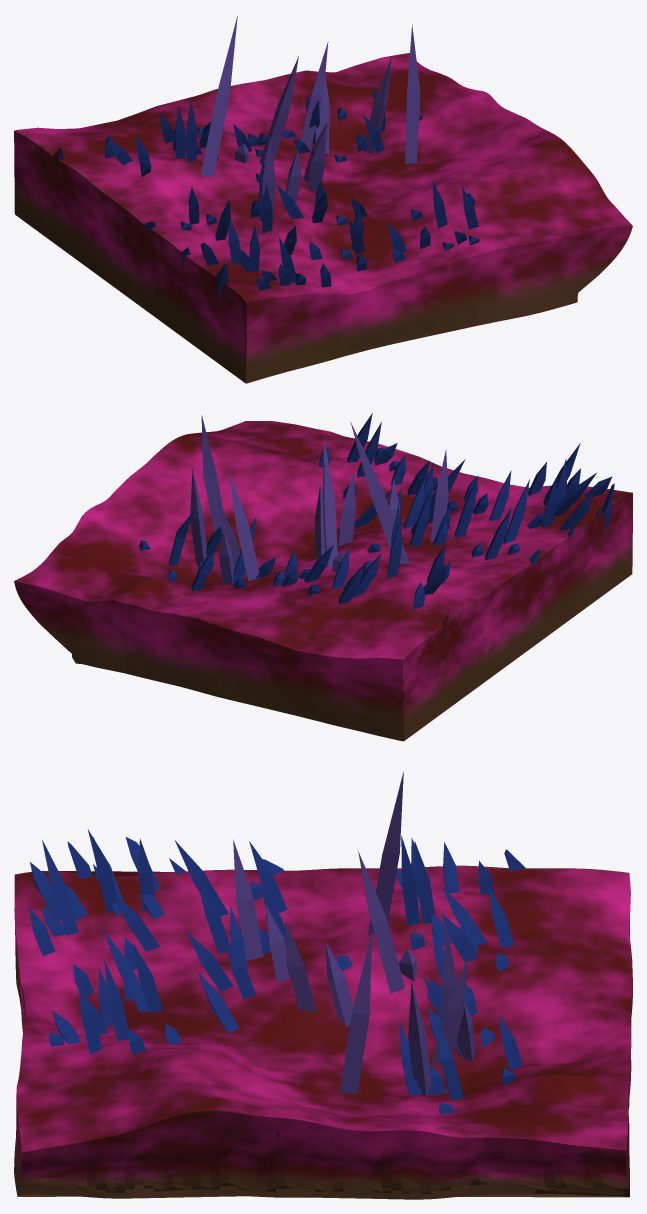
Rendered from lower_right.fbx.
3 renders of one model, top to bottom at view 1: azimuth 30°, elevation 25°; view 2: azimuth 150°, elevation 25°; view 3: azimuth 270°, elevation 25°, orthographic. The views are drawn at different scales.
Parts seen in each view (by area): view 1: right-lower; view 2: right-lower; view 3: right-lower.
Part boxes in pixels (bbox=[...]): right-lower: bbox=[14, 16, 632, 383]; right-lower: bbox=[14, 413, 632, 741]; right-lower: bbox=[14, 772, 632, 1199].
Size of the model in its own units: 600 by 331 by 611.
